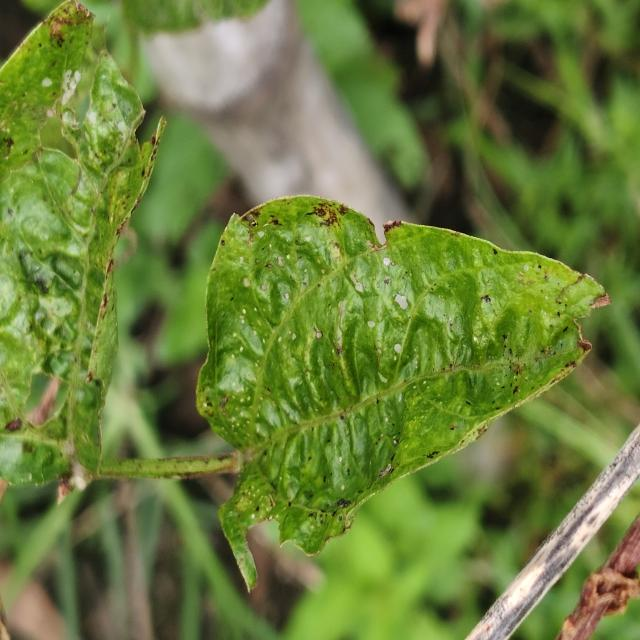leaf-moderate: (197, 197, 610, 584), (0, 0, 158, 484)
